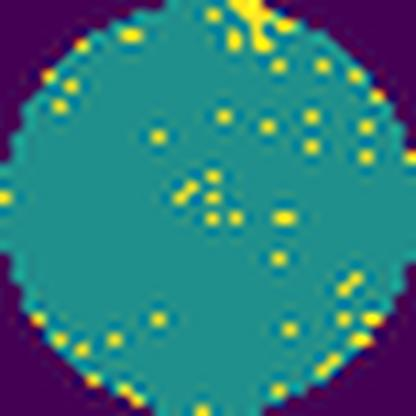Edge-Loc: (225, 0, 283, 55)
